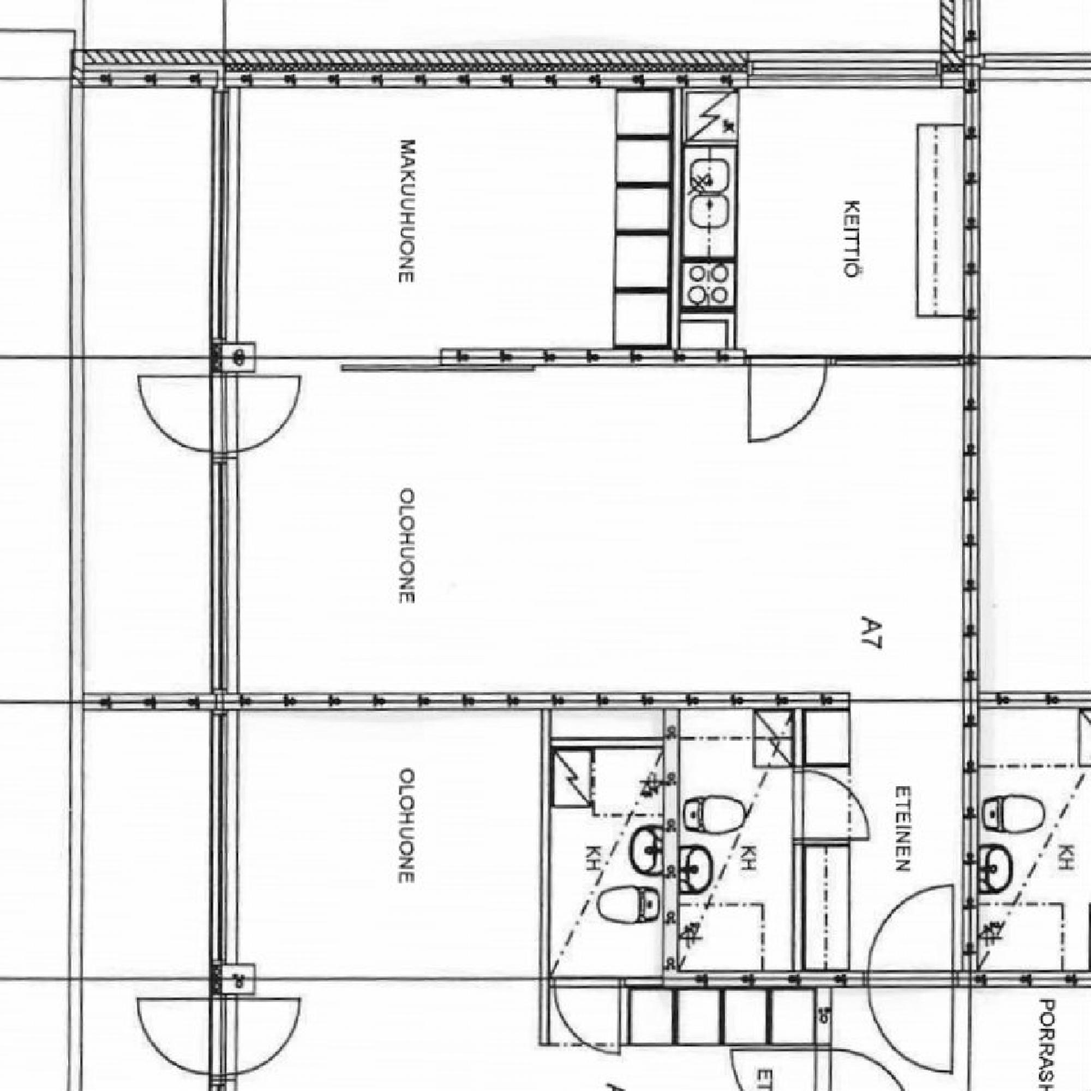wall: (211, 50, 979, 88), (210, 50, 237, 708), (962, 50, 979, 989), (255, 350, 746, 366), (210, 692, 678, 708), (67, 50, 211, 88), (662, 972, 979, 989), (662, 692, 678, 989), (792, 708, 804, 972), (678, 692, 851, 708), (672, 311, 735, 350), (746, 355, 962, 366), (672, 88, 681, 350), (83, 693, 210, 708), (211, 344, 255, 371)
